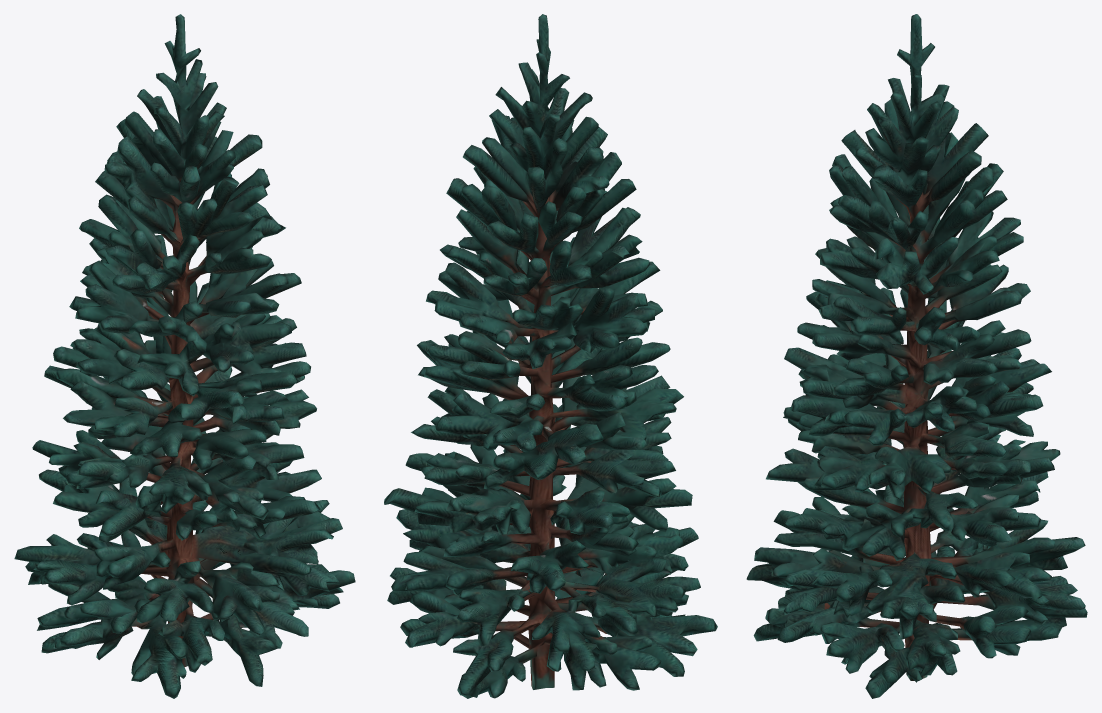
File: spruce.glb
3 renders of one model, left to right at view 1: azimuth 30°, elevation 25°; view 2: azimuth 150°, elevation 25°; view 3: azimuth 270°, elevation 25°, orthographic. The views are drawn at different scales.
Bounding box in the file's own units: 0.8727 × 1.9 × 0.8848.
1 material, 1 textured.
